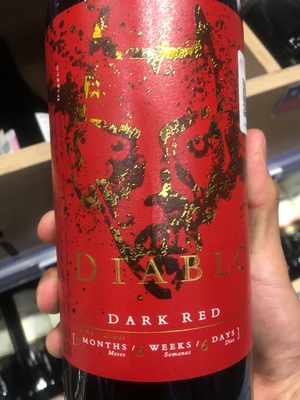diablo dark red: (43, 1, 261, 400)
